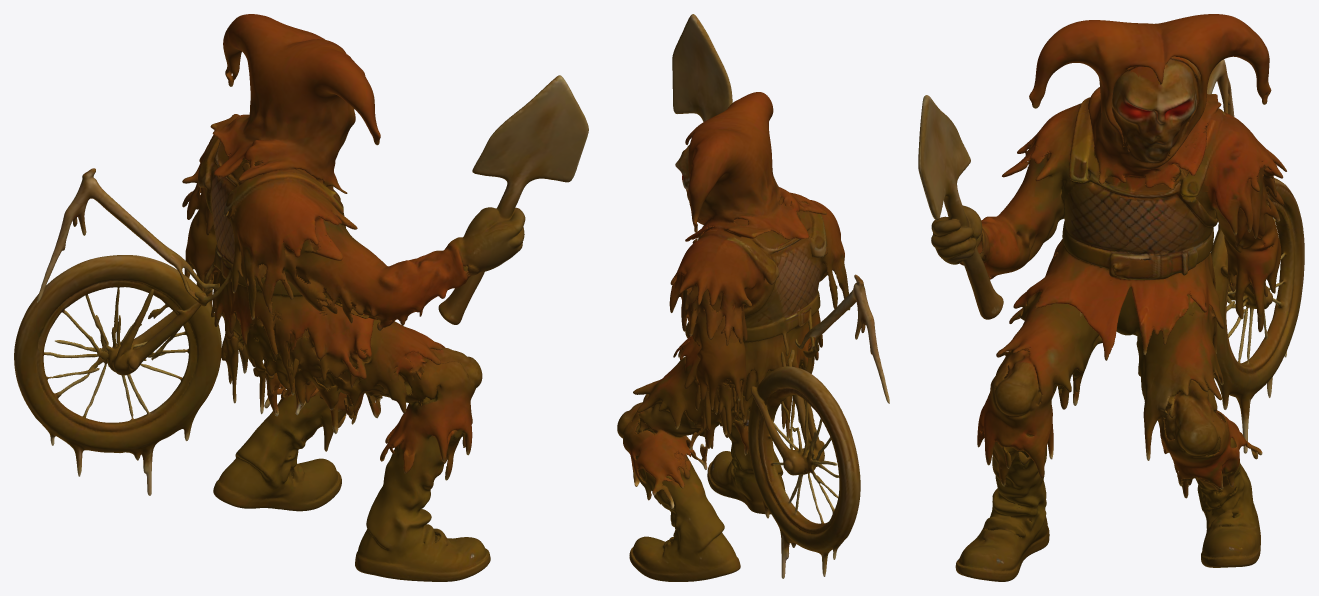
3 views of the same model, side by side, from view 1: azimuth 30°, elevation 25°; view 2: azimuth 150°, elevation 25°; view 3: azimuth 270°, elevation 25° (orthographic). The views are drawn at different scales.
Visible parts, largest first — view 1: tripo_node_d2624872-52cb-48ed-ad1c-0bcffc5d82e9; view 2: tripo_node_d2624872-52cb-48ed-ad1c-0bcffc5d82e9; view 3: tripo_node_d2624872-52cb-48ed-ad1c-0bcffc5d82e9.
Part boxes in pixels (left/top/right/bottom): tripo_node_d2624872-52cb-48ed-ad1c-0bcffc5d82e9: left=14, top=14, right=588, bottom=581; tripo_node_d2624872-52cb-48ed-ad1c-0bcffc5d82e9: left=617, top=14, right=889, bottom=581; tripo_node_d2624872-52cb-48ed-ad1c-0bcffc5d82e9: left=918, top=14, right=1304, bottom=581.
Size of the model in its own units: 0.8281 by 1 by 0.6682.
Materials: 1 (1 with a texture image).
